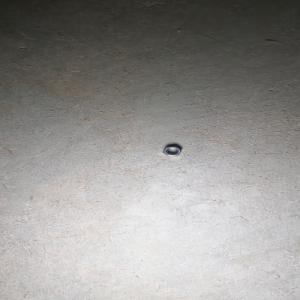Nut: (161, 145, 180, 157)
